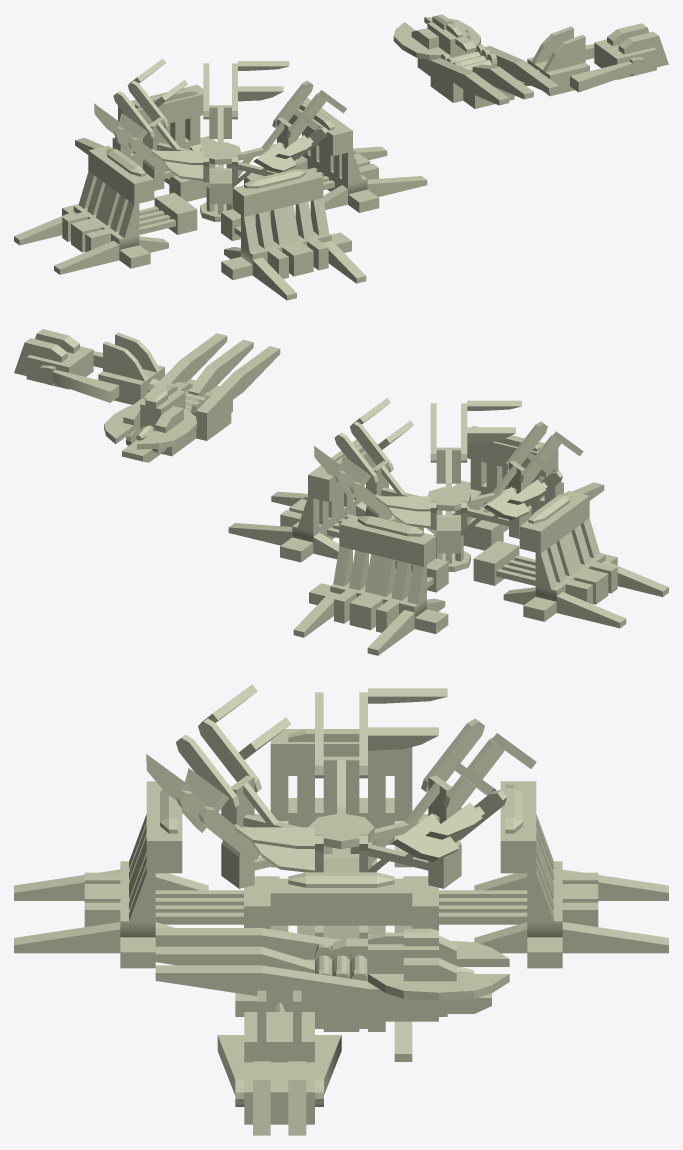
File: texturepreview.obj
3 renders of one model, top to bottom at view 1: azimuth 30°, elevation 25°; view 2: azimuth 150°, elevation 25°; view 3: azimuth 270°, elevation 25°, orthographic. The views are drawn at different scales.
Visible parts, largest first — view 1: Object1555; view 2: Object1555; view 3: Object1555.
Boxes of the visible parts, box(x1,y1,x2,y2) form: Object1555: box(14, 14, 668, 300); Object1555: box(14, 329, 668, 655); Object1555: box(14, 684, 668, 1135).
Size of the model in its own units: 60.76 by 11.23 by 37.
